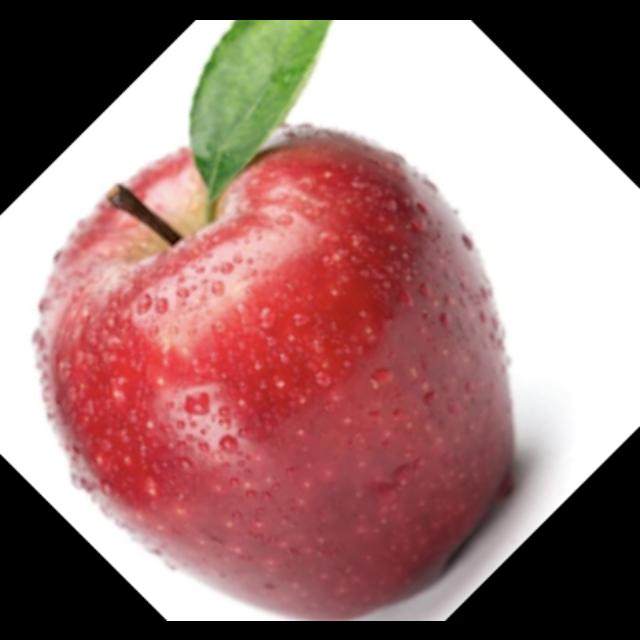Apel Segar: (23, 102, 529, 620)
